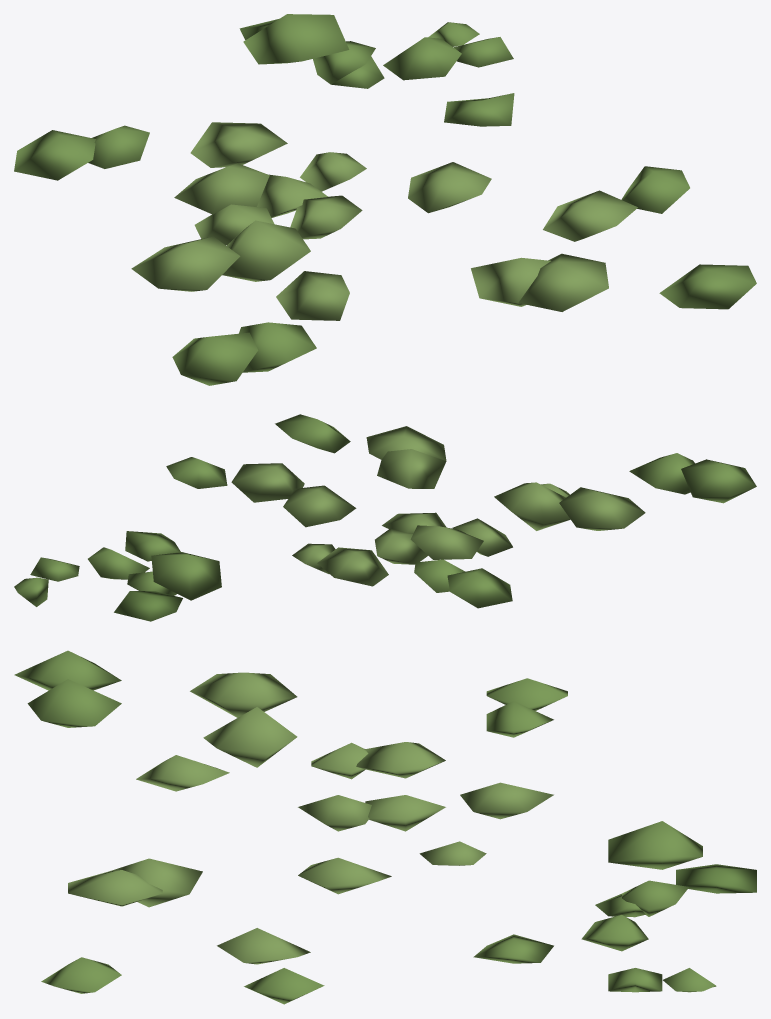
The model's file is canopy-2--1--15.glb.
3 views of the same model, one above another, from view 1: azimuth 30°, elevation 25°; view 2: azimuth 150°, elevation 25°; view 3: azimuth 270°, elevation 25° (orthographic). The views are drawn at different scales.
Size of the model in its own units: 132 by 22.5 by 138.
Materials: 1 (1 with a texture image).
